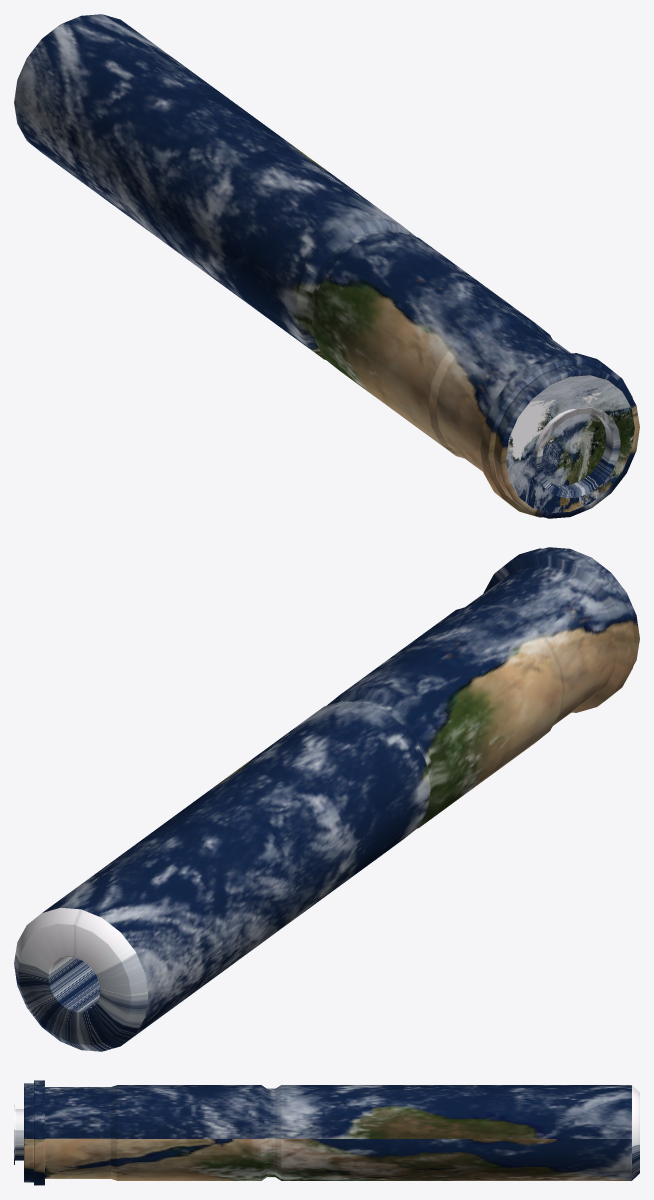
File: watergun.obj
3 renders of one model, top to bottom at view 1: azimuth 30°, elevation 25°; view 2: azimuth 150°, elevation 25°; view 3: azimuth 270°, elevation 25°, orthographic. The views are drawn at different scales.
Bounding box in the file's own units: 1.1 × 1.1 × 6.5.
